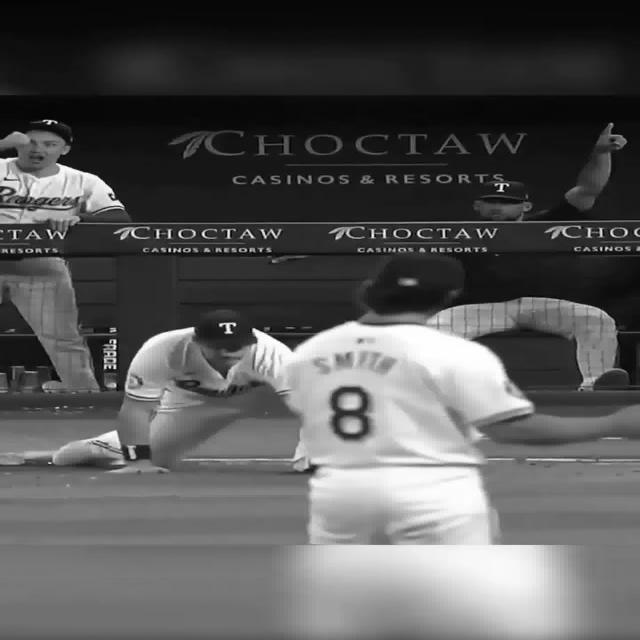base: (8, 453, 132, 467)
shoe: (55, 442, 137, 463)
